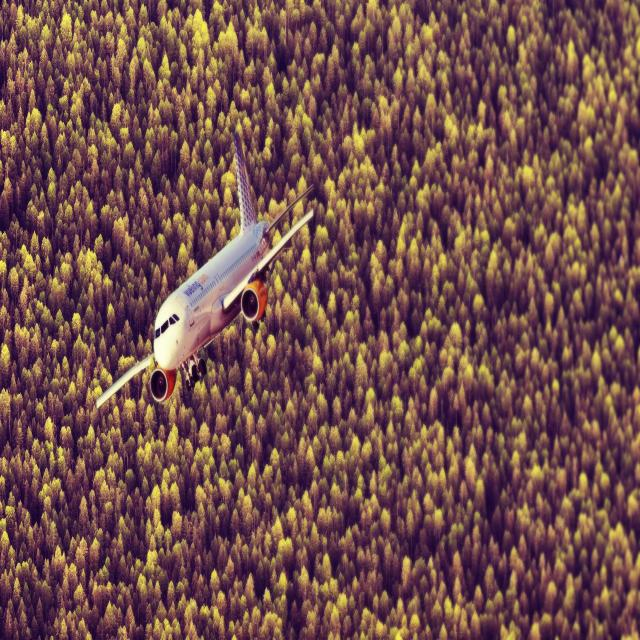airplane: (94, 131, 314, 410)
